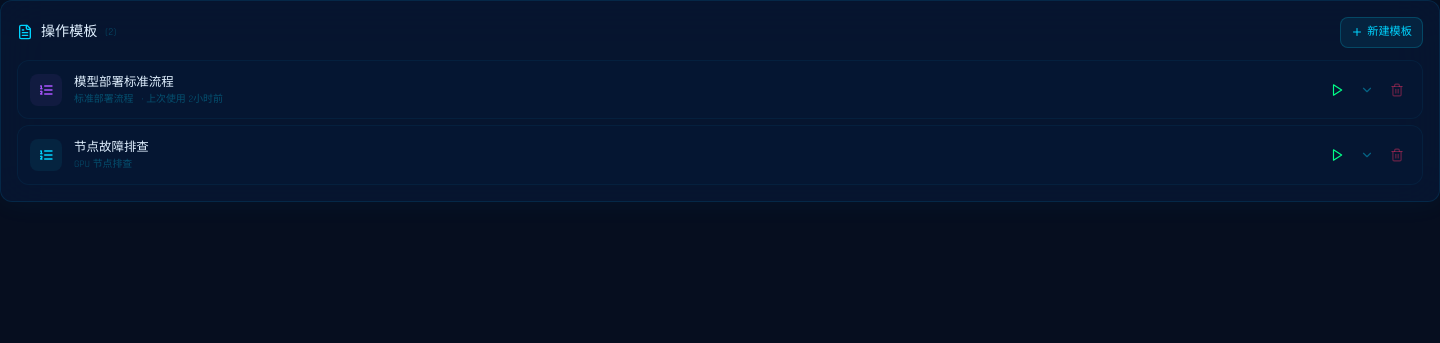
Scenario: OperationTemplate › 展开/折叠 › 点击展开按钮应显示步骤明细
The width and height of the screenshot is (1440, 343).
Click the button without text in the row of "2小时前" at (1367, 90), box [1354,77,1380,103]
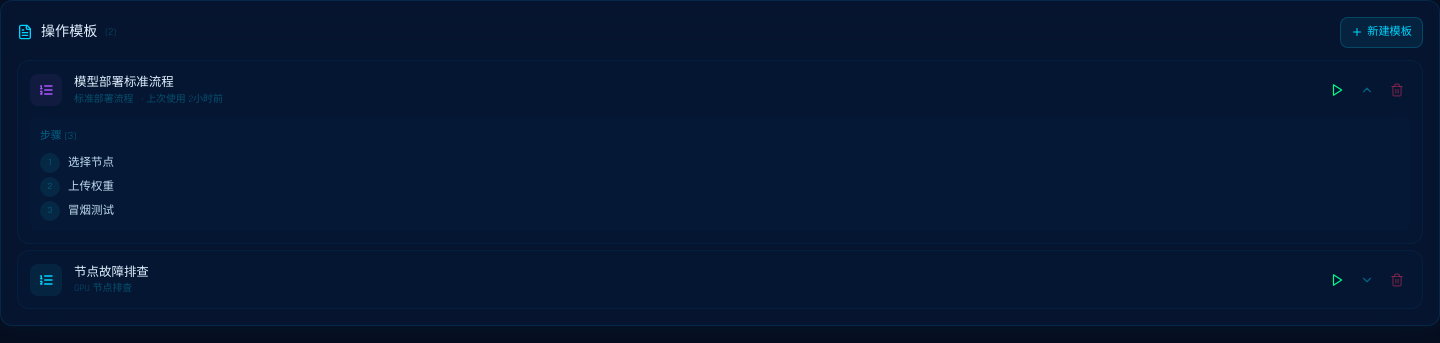
Expected: the text "步骤 (3)" is shown, [40,129,76,143]
Expected: the text "选择节点" is shown, [68,154,114,171]
Expected: the text "上传权重" is shown, [68,178,114,195]
